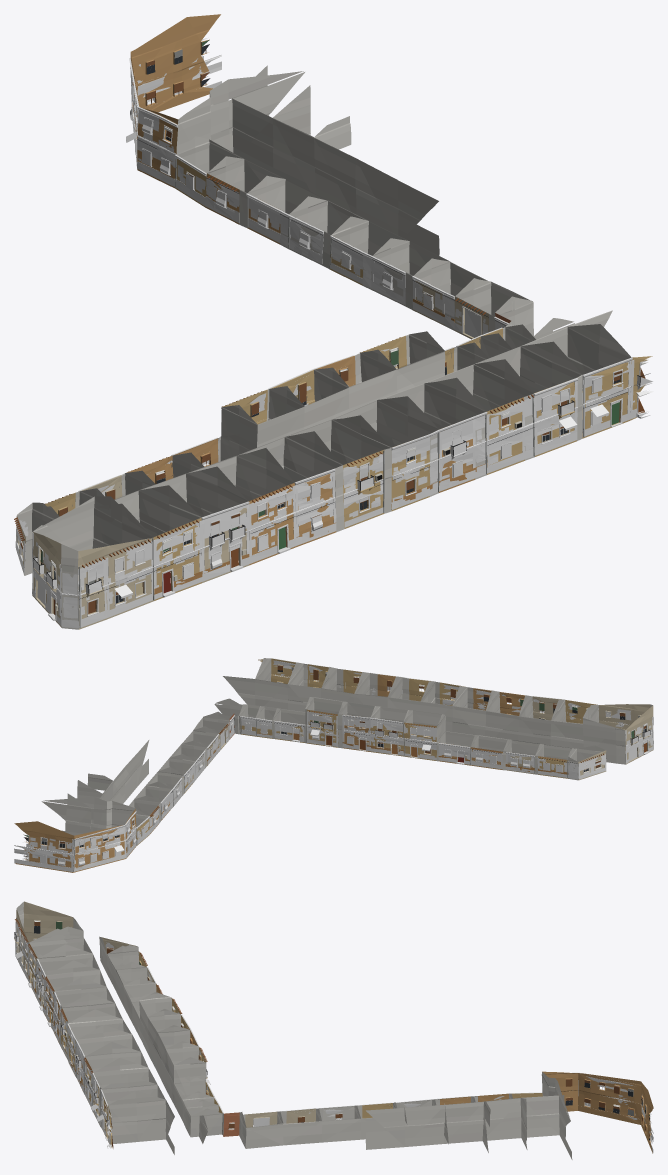
The model's file is zona_-3_0.glb.
3 views of the same model, one above another, from view 1: azimuth 30°, elevation 25°; view 2: azimuth 150°, elevation 25°; view 3: azimuth 270°, elevation 25° (orthographic). The views are drawn at different scales.
Visible parts, largest first — view 1: z_casas_-3_0, z_fachadas_-3_0; view 2: z_casas_-3_0, z_fachadas_-3_0; view 3: z_casas_-3_0, z_fachadas_-3_0.
Part boxes in pixels (x1,y1,x2,y2): z_casas_-3_0: (16,14,652,629); z_fachadas_-3_0: (14,38,653,628); z_casas_-3_0: (14,658,653,872); z_fachadas_-3_0: (14,658,653,871); z_casas_-3_0: (16,901,653,1159); z_fachadas_-3_0: (14,917,653,1152).
Bounding box in the file's own units: 76.39 × 8.99 × 99.2.
